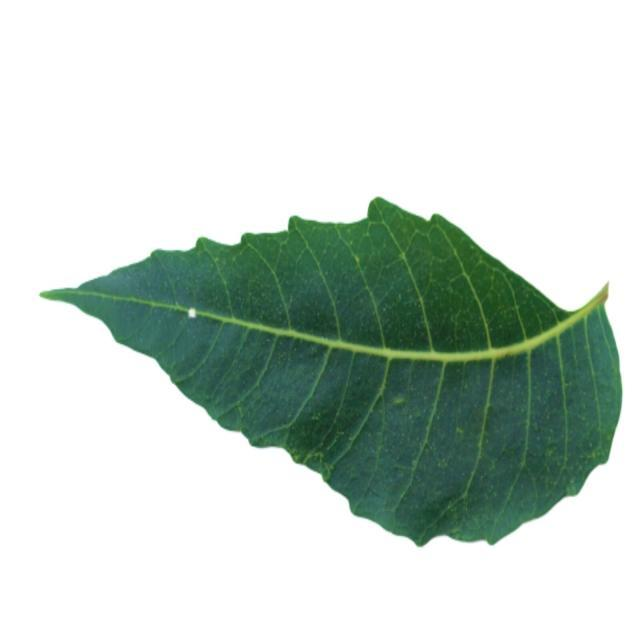Wet: (38, 146, 626, 583)
